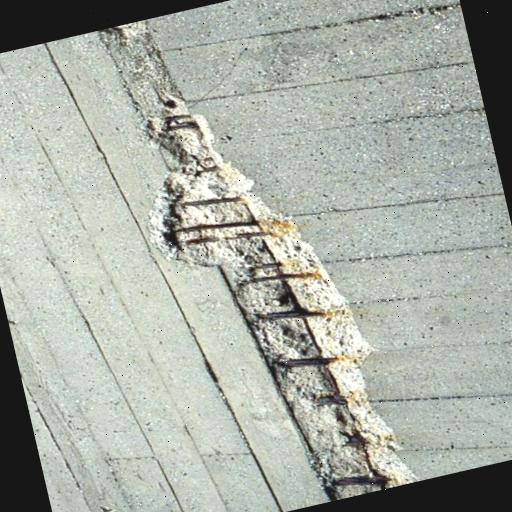spalling: (144, 112, 409, 502)
